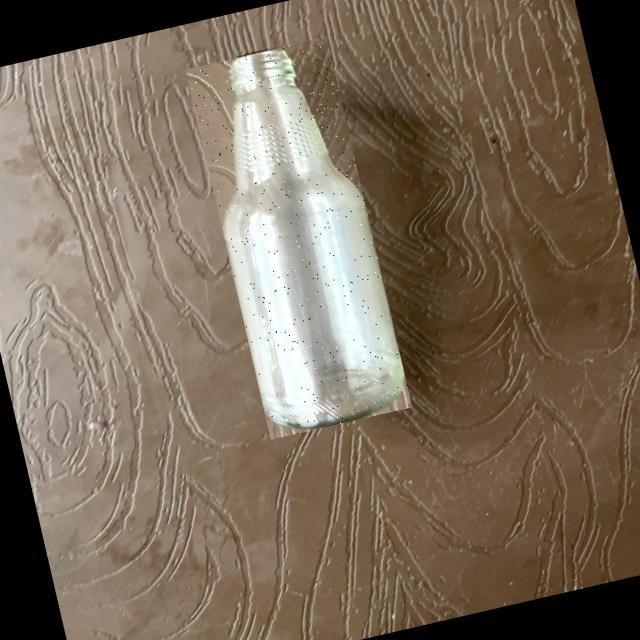Glass_Bottle: (223, 51, 403, 428)
